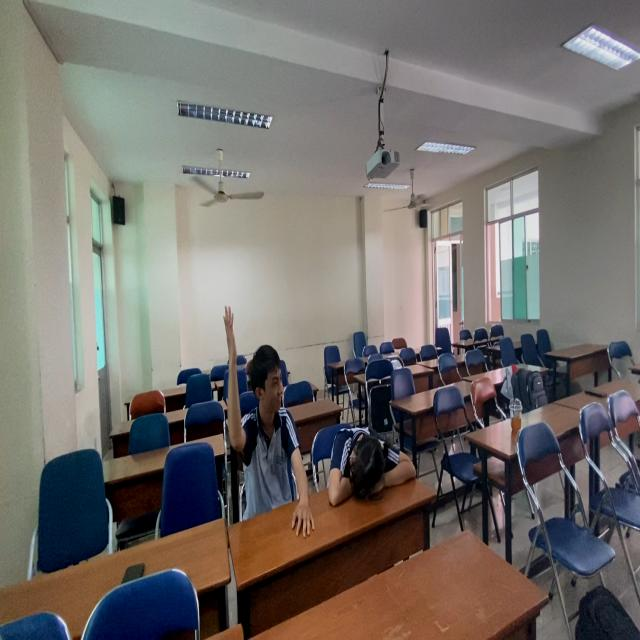raise_hand: (224, 306, 296, 502)
sleep: (323, 426, 418, 516)
